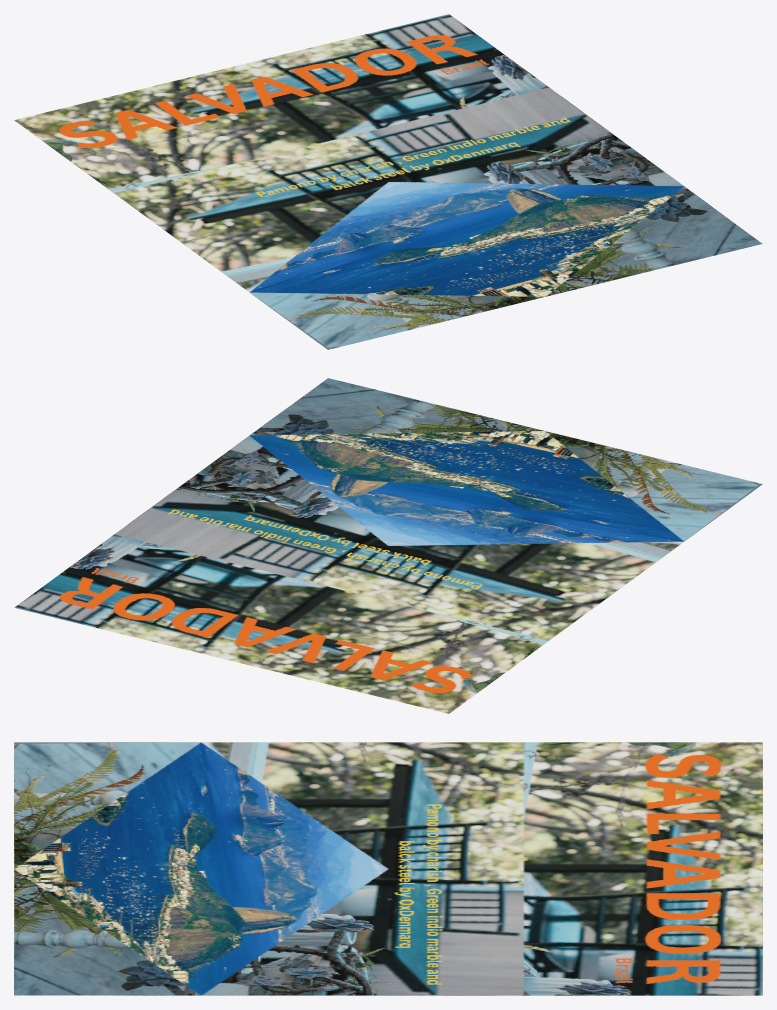
File: widewonder4.glb
3 renders of one model, top to bottom at view 1: azimuth 30°, elevation 25°; view 2: azimuth 150°, elevation 25°; view 3: azimuth 270°, elevation 25°, orthographic. The views are drawn at different scales.
Parts seen in each view (by area): view 1: Plane; view 2: Plane; view 3: Plane.
Boxes of the visible parts, x1,y1,x2,y2 form: Plane: (14, 14, 762, 349); Plane: (14, 378, 762, 713); Plane: (14, 742, 762, 995).
Bounding box in the file's own units: 0.4 × 0 × 0.5.
Materials: 1 (1 with a texture image).
